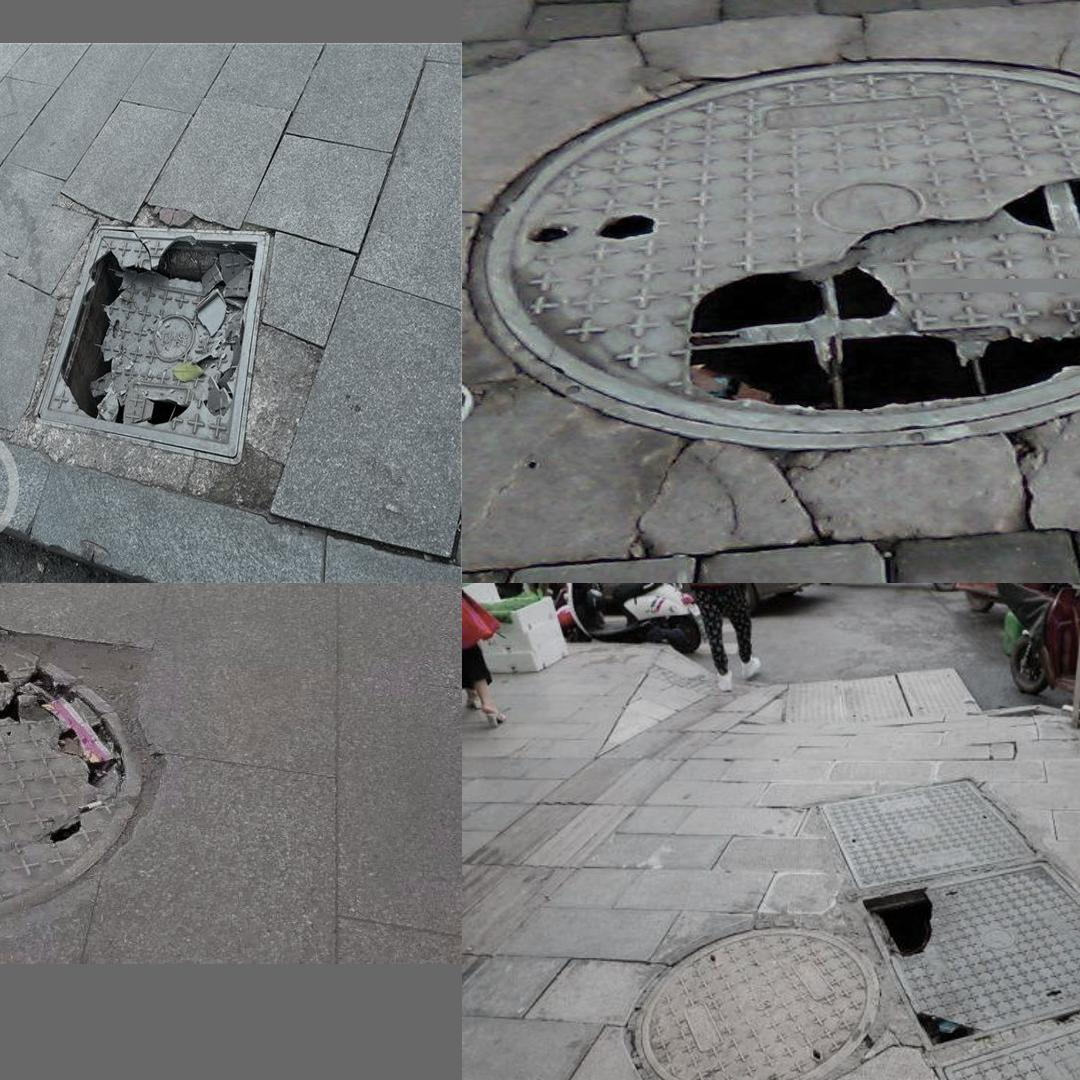broke: (469, 60, 1080, 449), (6, 208, 290, 476), (0, 613, 149, 938), (855, 872, 1080, 1052)
